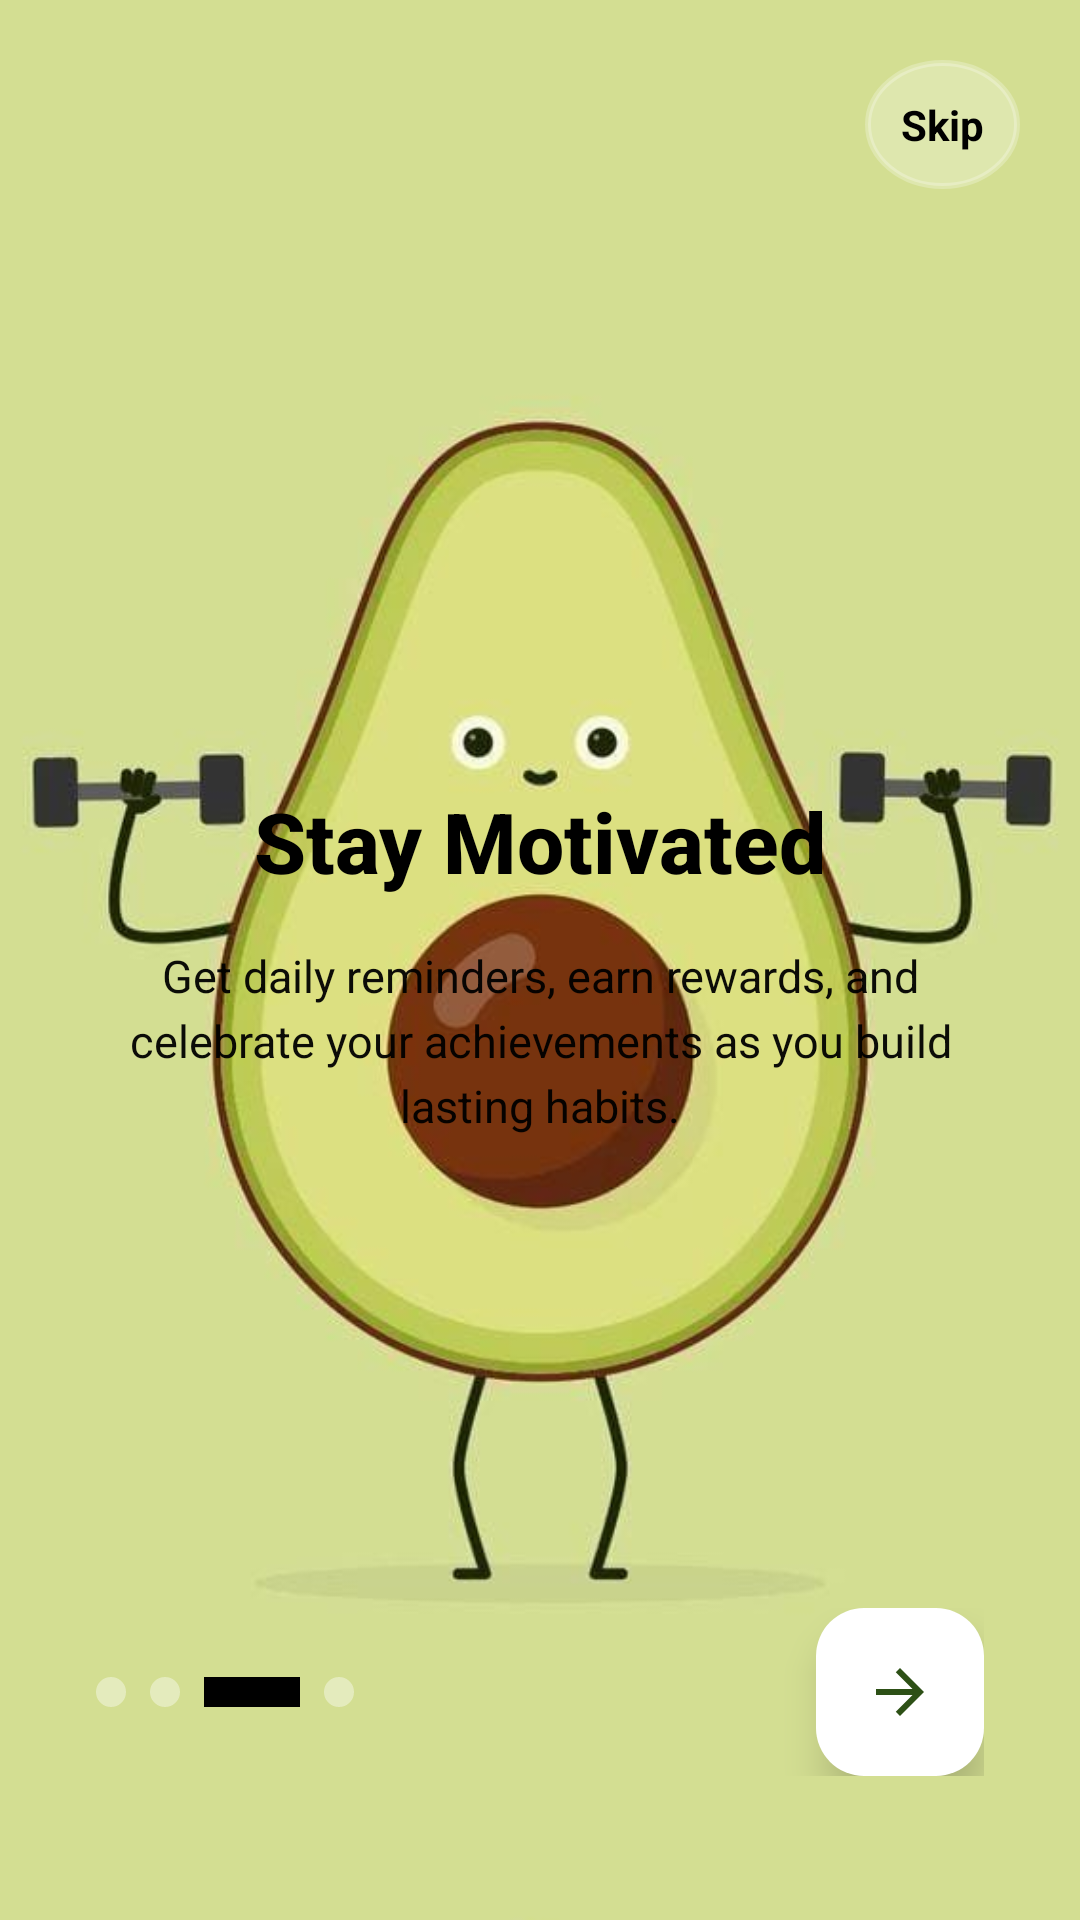

Locate icon controls on the screen. Image size 1080x1920, boxes as (x1, y1, x2, y2).
Next: (816, 1608, 984, 1776)
